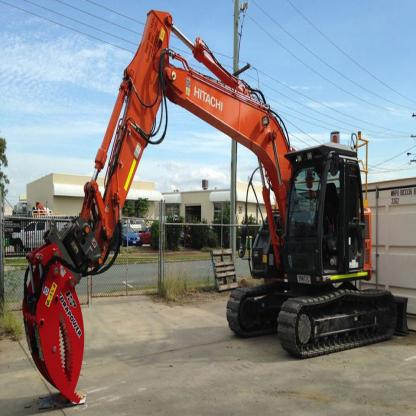excavator: (8, 9, 403, 411)
